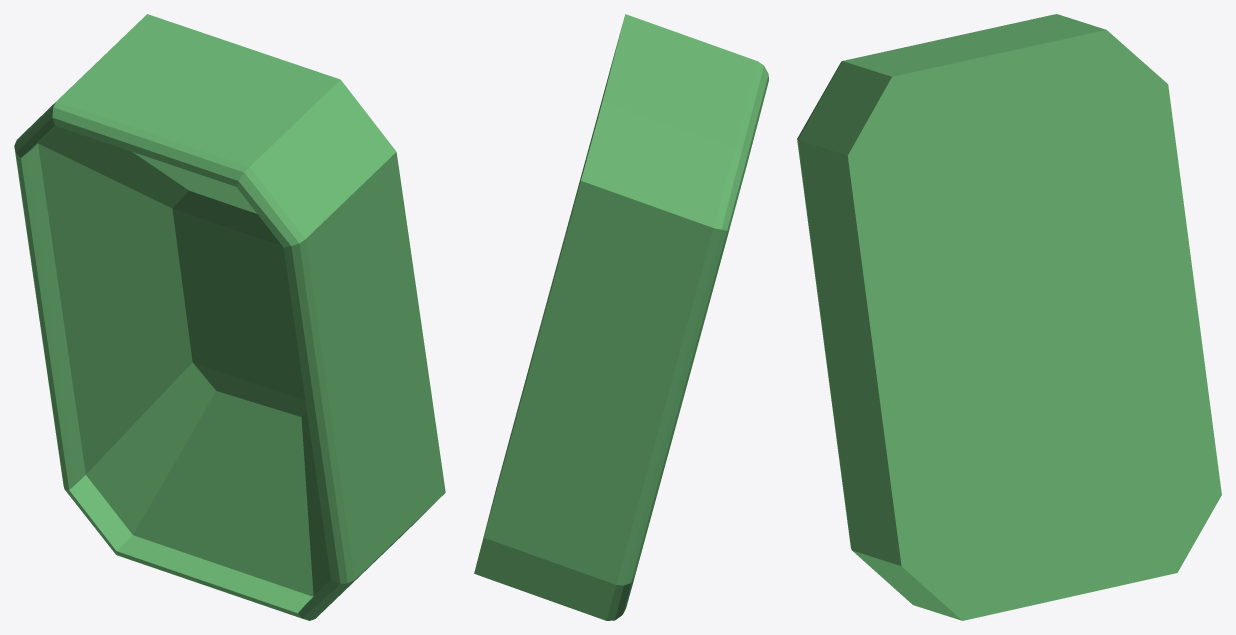
Rendered from TL4_8shapes_Emerald_Classic_Metal.001 3.glb.
3 views of the same model, side by side, from view 1: azimuth 30°, elevation 25°; view 2: azimuth 150°, elevation 25°; view 3: azimuth 270°, elevation 25° (orthographic). The views are drawn at different scales.
Parts seen in each view (by area): view 1: TL4_8shapes_Emerald_Classic_Metal.001; view 2: TL4_8shapes_Emerald_Classic_Metal.001; view 3: TL4_8shapes_Emerald_Classic_Metal.001.
Boxes of the visible parts, box(x1,y1,x2,y2) form: TL4_8shapes_Emerald_Classic_Metal.001: box(14, 14, 445, 620); TL4_8shapes_Emerald_Classic_Metal.001: box(474, 14, 768, 620); TL4_8shapes_Emerald_Classic_Metal.001: box(797, 14, 1221, 620).
Size of the model in its own units: 0.4175 by 0.672 by 0.4778.
